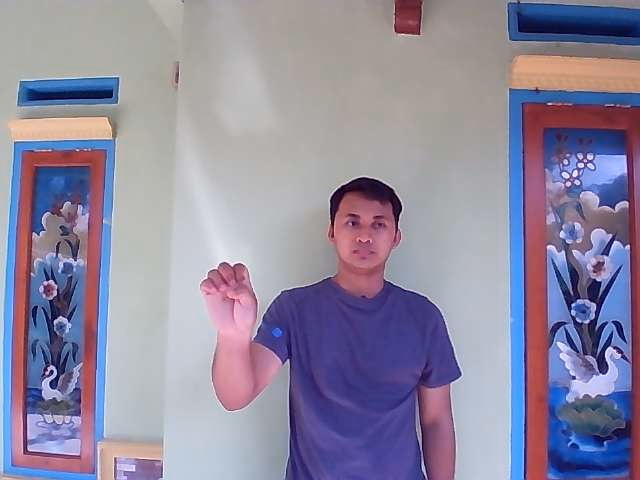E: (196, 257, 263, 346)
